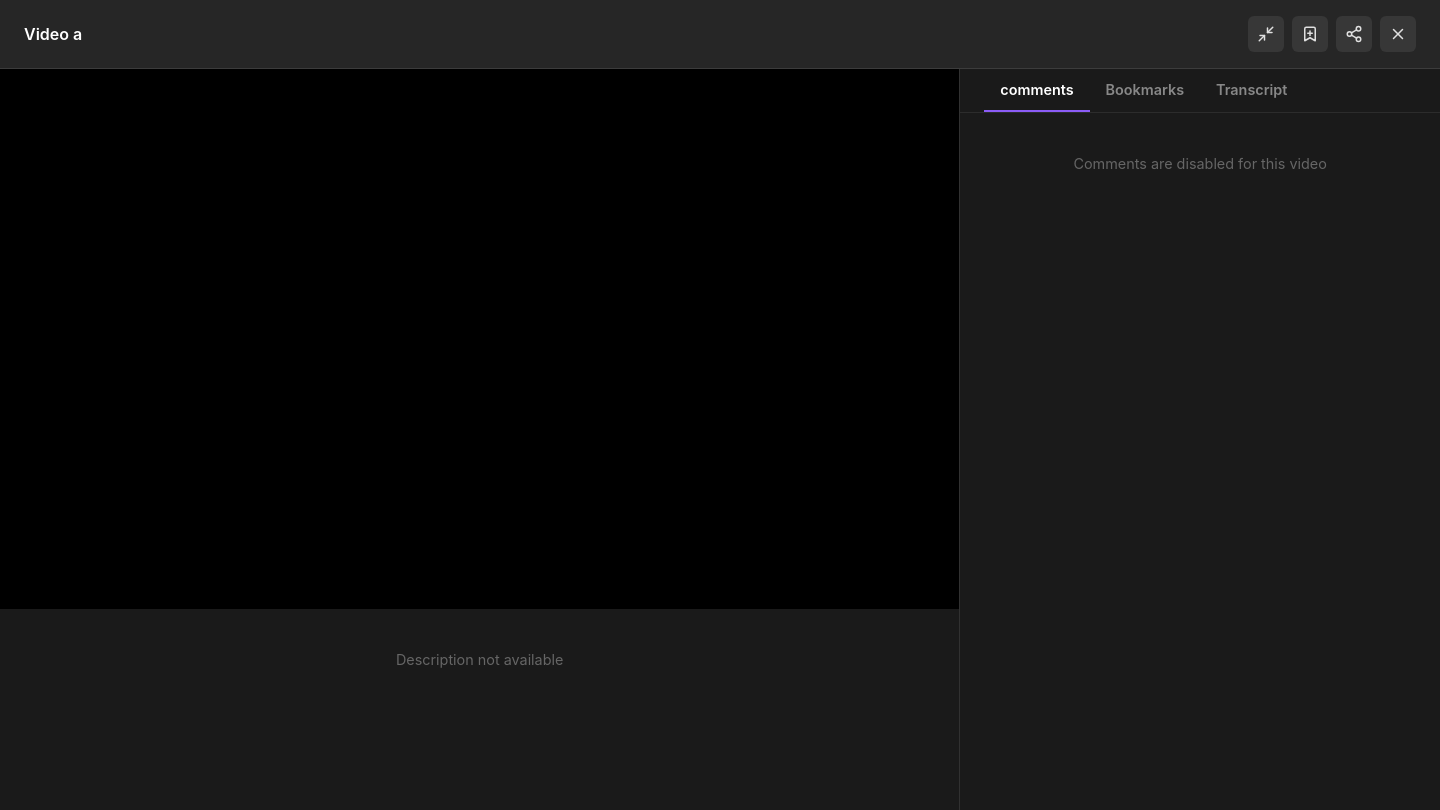
Test: VideoPlayer share menu › labels the toggle with the time the menu was opened at
The image size is (1440, 810).
Click the button with test id "share-btn": (1354, 34) [1336, 16, 1372, 52]
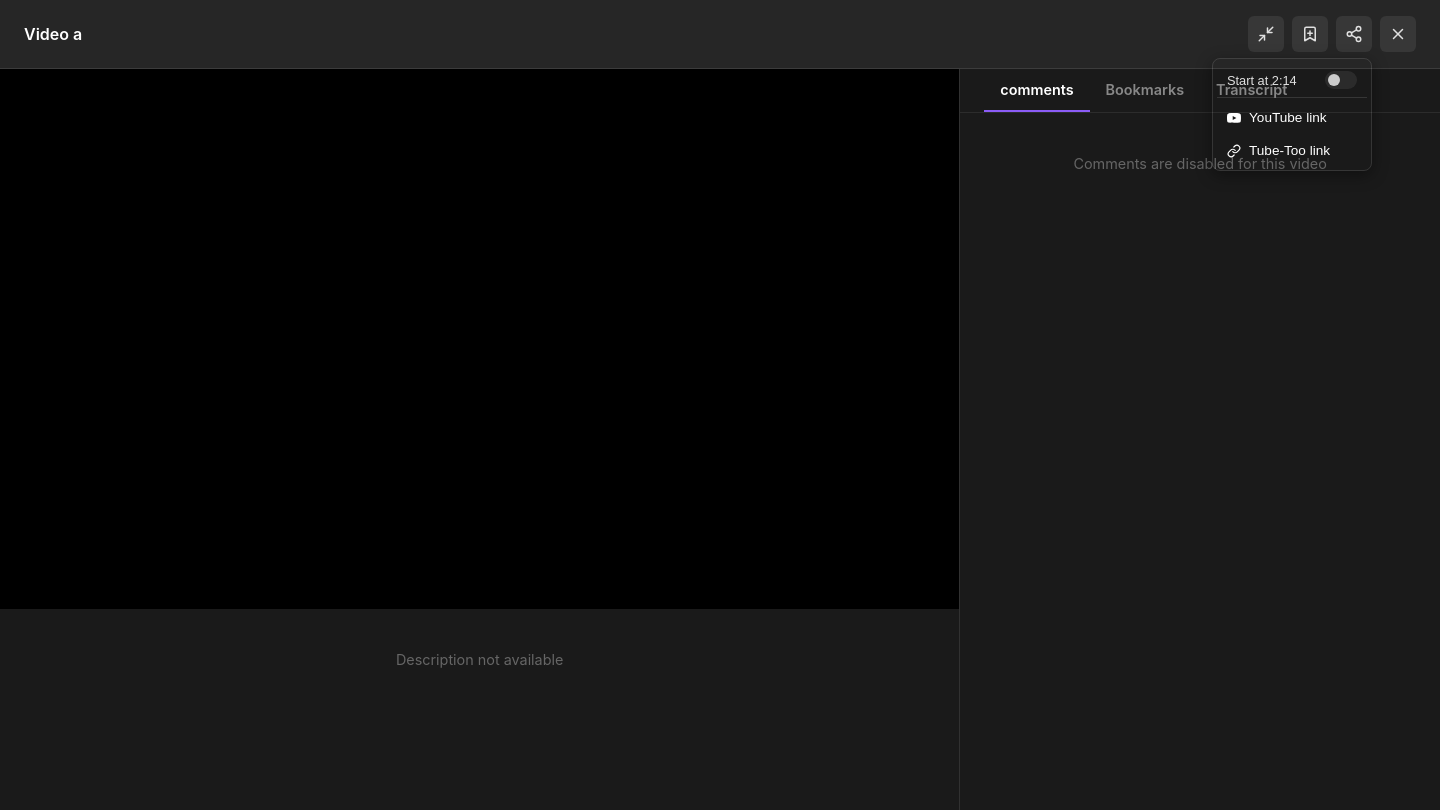
Result: the switch with test id "share-start-toggle" shows "2:14" at [1217, 63, 1367, 98]
